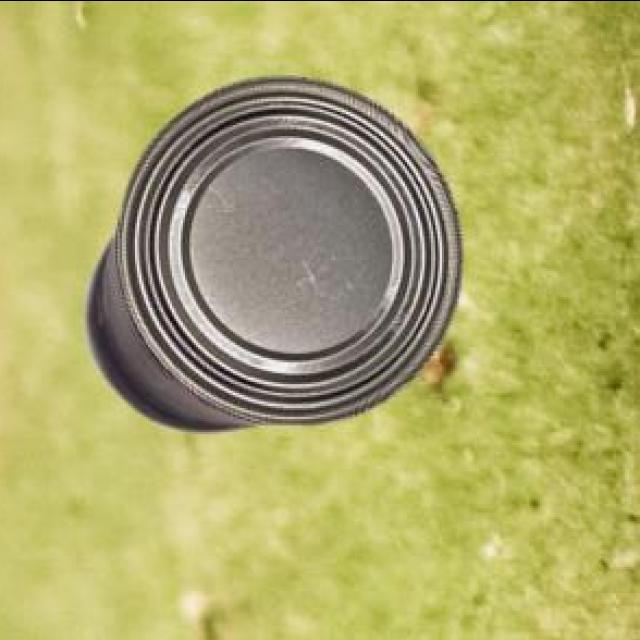logam: (82, 79, 460, 434)
